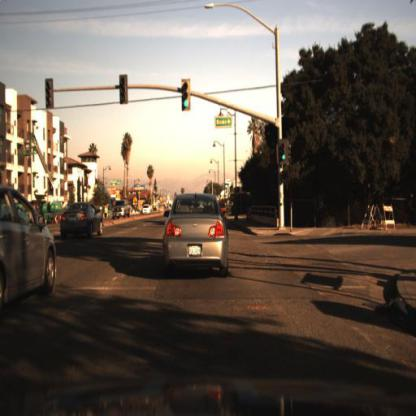car: (148, 184, 230, 297), (3, 188, 63, 319), (55, 200, 107, 243), (60, 198, 104, 241), (112, 196, 133, 225), (109, 200, 132, 220), (140, 203, 154, 218)
trafficLight: (116, 69, 130, 111), (42, 73, 55, 110), (181, 77, 192, 114)
trafficLight-Green: (277, 132, 295, 172), (118, 72, 129, 107), (282, 141, 291, 166)
